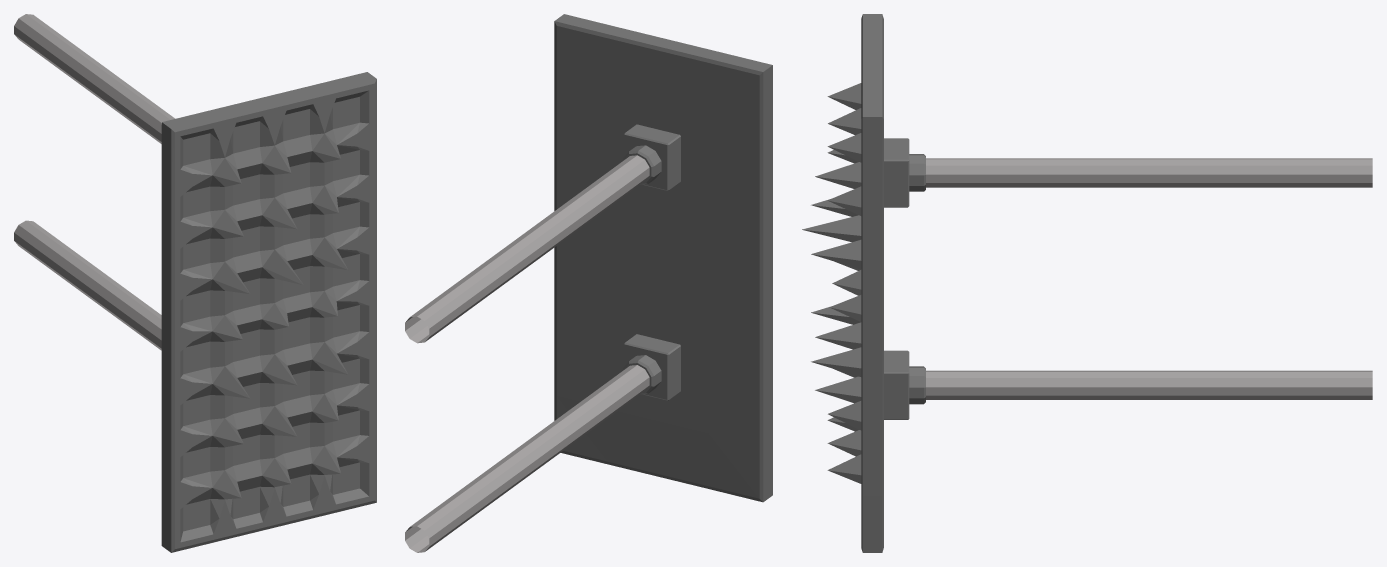
File: MEDStoneSpikeTrapWall.fbx
3 views of the same model, side by side, from view 1: azimuth 30°, elevation 25°; view 2: azimuth 150°, elevation 25°; view 3: azimuth 270°, elevation 25° (orthographic). The views are drawn at different scales.
Parts seen in each view (by area): view 1: MEDStoneSpikeTrapWall; view 2: MEDStoneSpikeTrapWall; view 3: MEDStoneSpikeTrapWall.
Part boxes in pixels (left/top/right/bottom): MEDStoneSpikeTrapWall: left=14, top=14, right=376, bottom=552; MEDStoneSpikeTrapWall: left=405, top=14, right=772, bottom=552; MEDStoneSpikeTrapWall: left=802, top=14, right=1372, bottom=552.
Bounding box in the file's own units: 115 × 226 × 268.
